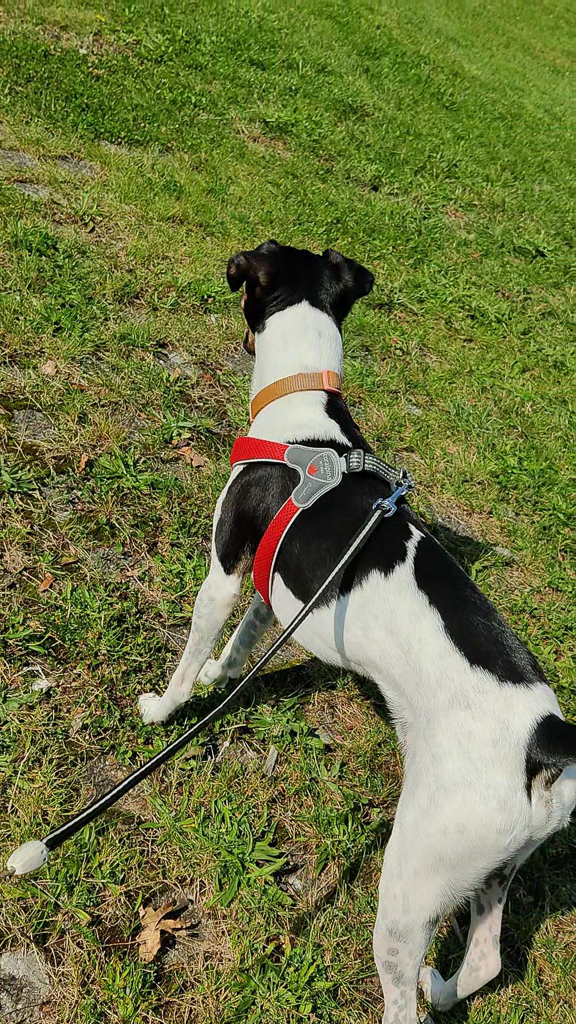Dog: (133, 224, 576, 1024)
